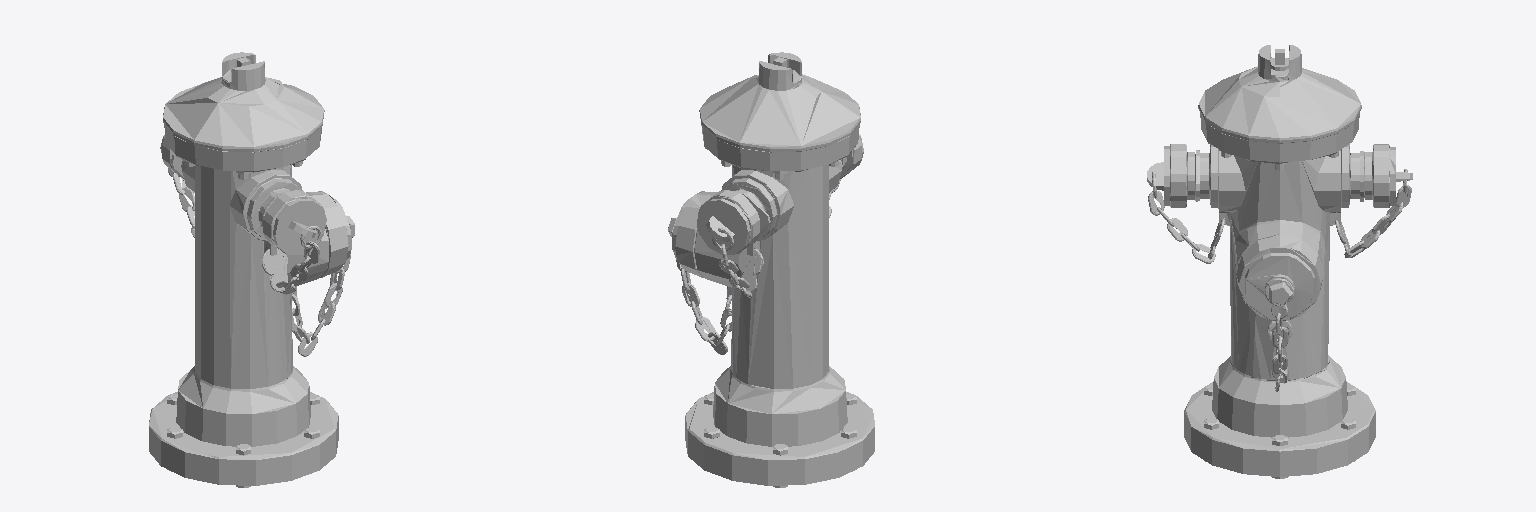
Rendered from FireHydrantMeshLOD3.obj.
3 views of the same model, side by side, from view 1: azimuth 30°, elevation 25°; view 2: azimuth 150°, elevation 25°; view 3: azimuth 270°, elevation 25° (orthographic).
Parts seen in each view (by area): view 1: FireHydrant_FireHydrantMesh; view 2: FireHydrant_FireHydrantMesh; view 3: FireHydrant_FireHydrantMesh.
Boxes of the visible parts, box(x1,y1,x2,y2) form: FireHydrant_FireHydrantMesh: box(149, 52, 354, 487); FireHydrant_FireHydrantMesh: box(668, 52, 874, 487); FireHydrant_FireHydrantMesh: box(1147, 45, 1412, 478).
Size of the model in its own units: 0.5875 by 1.17 by 0.7076.